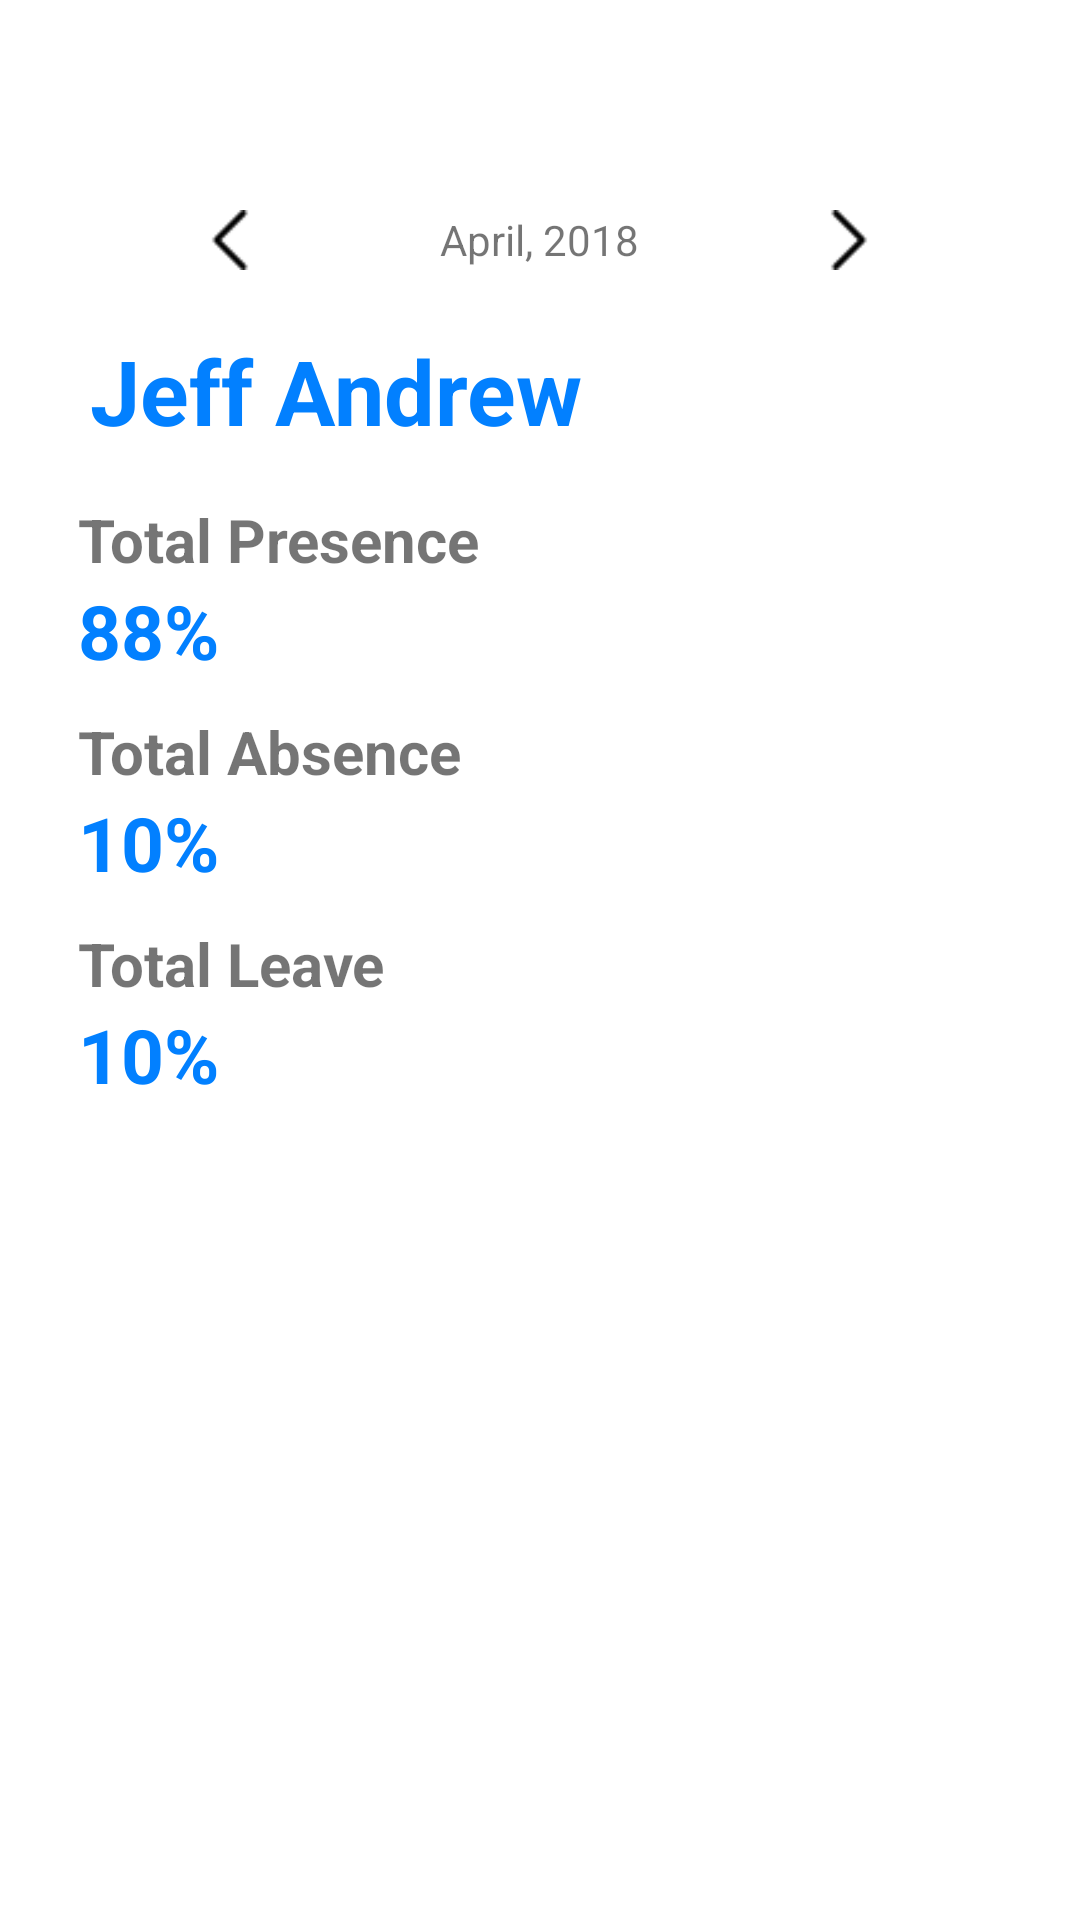

Icon click points for this 1080×1920 phone screenshot, format (x,y):
back: (230,240)
next: (849,240)
